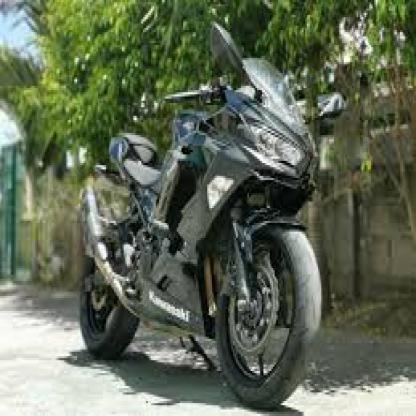Motorcycle: (72, 15, 329, 410)
